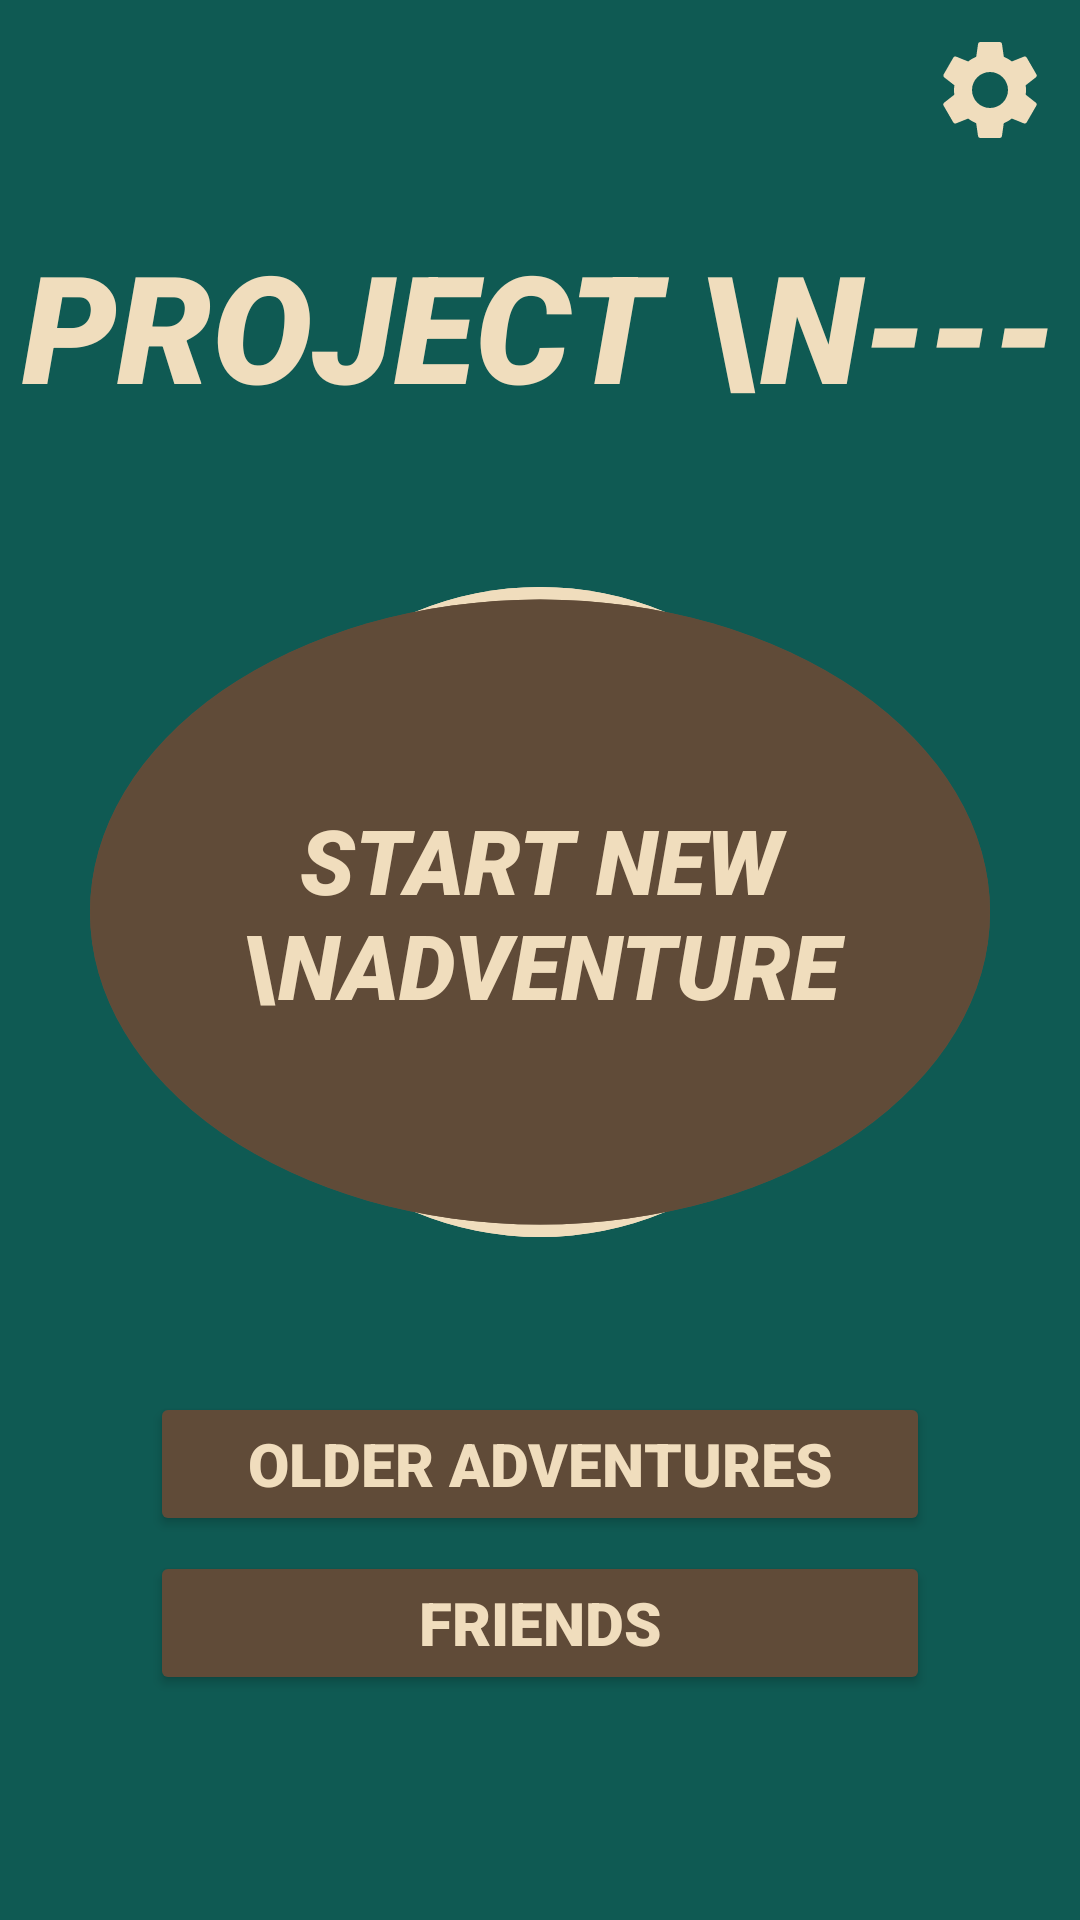

Icon bounding boxes for this 1080×1920 phone screenshot, format [left=x1, top=y1, right=x2, bottom=y2]:
settings: [left=943, top=42, right=1037, bottom=138]
